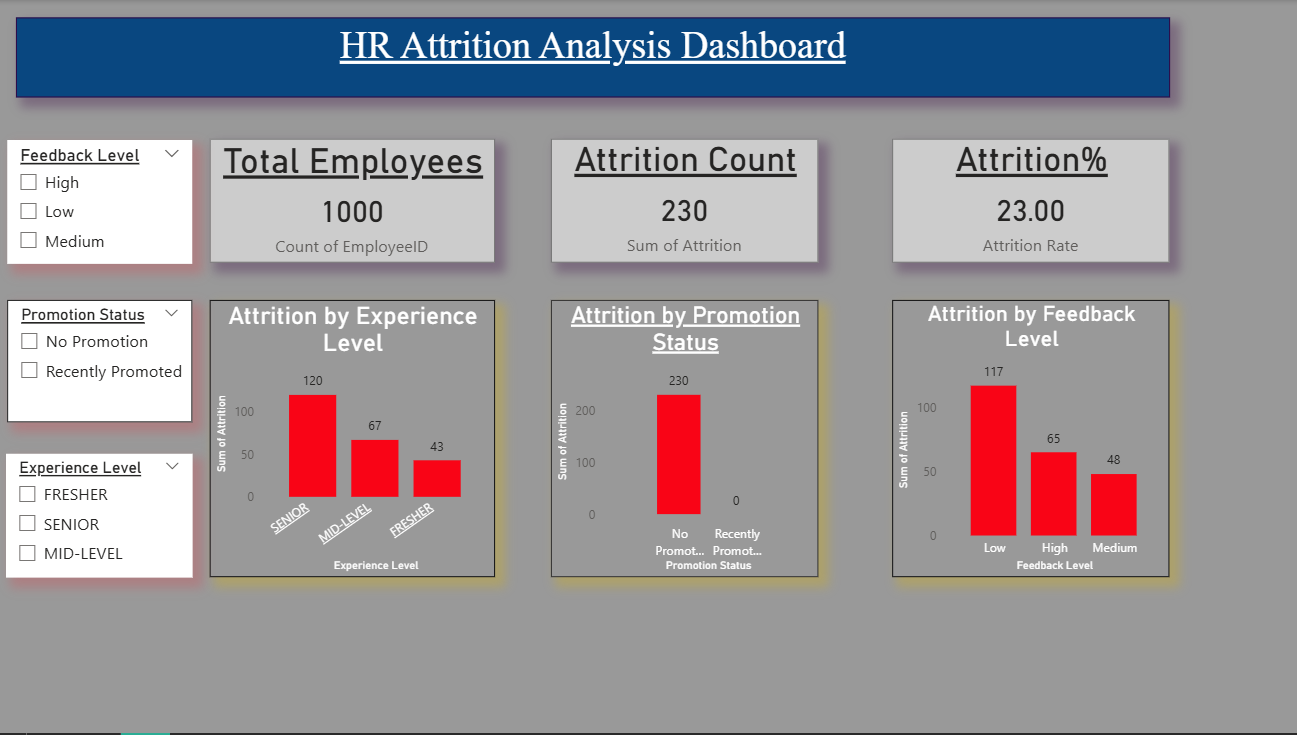

The page's visual inventory and layout, read from the dashboard file:
{"tool":"powerbi","page":{"name":"Page 1","canvas":[1280,720],"ordinal":0},"visuals":[{"type":"card","title":"Total Employees","fields":{"Values":["CountNonNull(employee_attrition.EmployeeID)"]},"box":[210.2,135.6,279.9,121.9],"z":0},{"type":"card","title":"Attrition Count","fields":{"Values":["Sum(employee_attrition.Attrition)"]},"box":[544.8,136.2,262.6,121.5],"z":1000},{"type":"card","title":"Attrition%","fields":{"Values":["employee_attrition.Attrition Rate"]},"box":[879.8,136.2,272.4,121.5],"z":2000},{"type":"clusteredColumnChart","title":"Attrition by Experience Level","fields":{"Category":["employee_attrition.Experience Level"],"Y":["Sum(employee_attrition.Attrition)"]},"box":[209.8,294.5,279.8,272.4],"z":2001},{"type":"columnChart","title":" Attrition by Promotion Status","fields":{"Category":["employee_attrition.Promotion Status"],"Y":["Sum(employee_attrition.Attrition)"]},"box":[544.8,294.5,262.6,272.4],"z":2002},{"type":"clusteredColumnChart","title":"Attrition by Feedback Level","fields":{"Category":["employee_attrition.Feedback Level"],"Y":["Sum(employee_attrition.Attrition)"]},"box":[879.8,294.5,272.4,272.4],"z":2003},{"type":"slicer","fields":{"Values":["employee_attrition.Experience Level"]},"box":[9.8,445.4,182.8,121.5],"z":2004},{"type":"slicer","fields":{"Values":["employee_attrition.Promotion Status"]},"box":[11,294.5,181.6,120.2],"z":2005},{"type":"slicer","fields":{"Values":["employee_attrition.Feedback Level"]},"box":[11,137.4,181.6,121.5],"z":2006},{"type":"textbox","box":[19.6,17.2,1132.5,78.5],"z":2008}]}

Visuals, with their boxes in screenshot pixels (x1, y1, x2, y2), scaled from the page's 1280x720 canvas onto the 1297x735 screenshot:
"Total Employees" card: [left=213, top=138, right=497, bottom=263]
"Attrition Count" card: [left=552, top=139, right=818, bottom=263]
"Attrition%" card: [left=891, top=139, right=1168, bottom=263]
"Attrition by Experience Level" clusteredColumnChart: [left=213, top=301, right=496, bottom=579]
" Attrition by Promotion Status" columnChart: [left=552, top=301, right=818, bottom=579]
"Attrition by Feedback Level" clusteredColumnChart: [left=891, top=301, right=1168, bottom=579]
slicer - employee_attrition.Experience Level: [left=10, top=455, right=195, bottom=579]
slicer - employee_attrition.Promotion Status: [left=11, top=301, right=195, bottom=423]
slicer - employee_attrition.Feedback Level: [left=11, top=140, right=195, bottom=264]
textbox: [left=20, top=18, right=1167, bottom=98]
